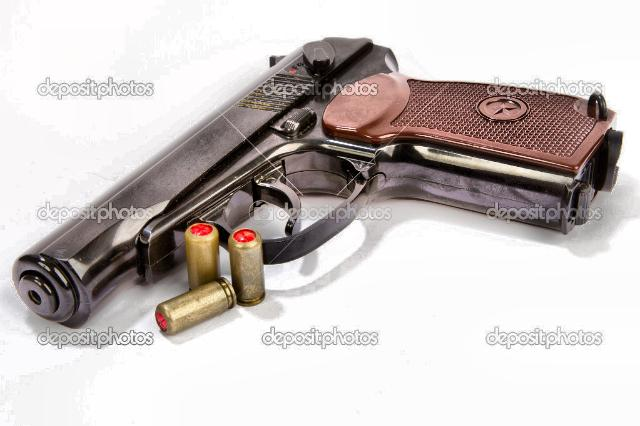pistol: (12, 31, 614, 343)
